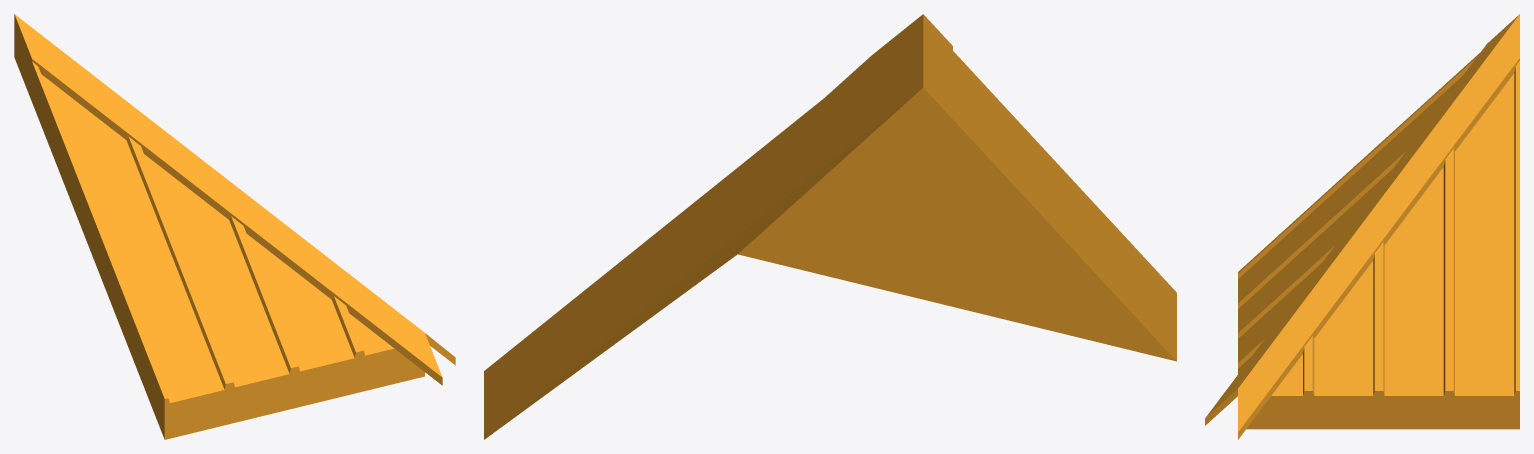
File: SM_Roof_Metal_Regular_2x2m_Corner_A.fbx
The picture shows the model from 3 angles, left to right: view 1: azimuth 30°, elevation 25°; view 2: azimuth 150°, elevation 25°; view 3: azimuth 270°, elevation 25°; orthographic projection. The views are drawn at different scales.
Parts seen in each view (by area): view 1: roof-metal-regular-2x2m-corner-a; view 2: roof-metal-regular-2x2m-corner-a; view 3: roof-metal-regular-2x2m-corner-a.
Boxes of the visible parts, left/top/right/bottom form: roof-metal-regular-2x2m-corner-a: left=14, top=14, right=455, bottom=439; roof-metal-regular-2x2m-corner-a: left=484, top=14, right=1176, bottom=439; roof-metal-regular-2x2m-corner-a: left=1205, top=14, right=1519, bottom=439.
Bounding box in the file's own units: 2.23 × 2.32 × 2.23.
